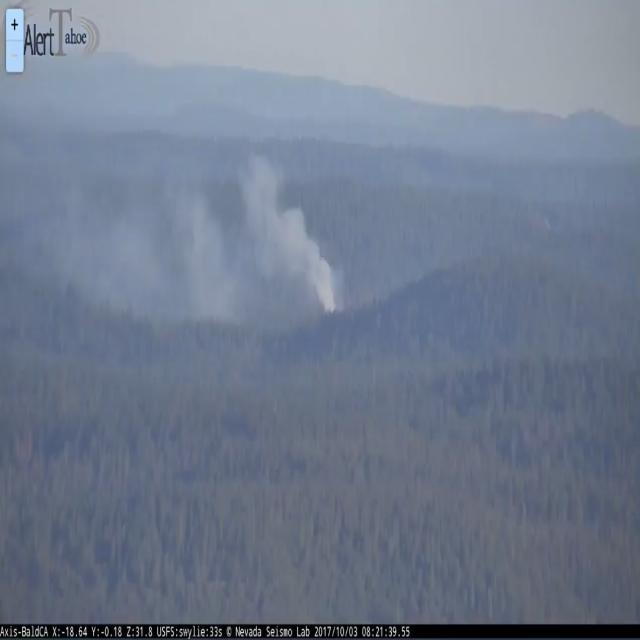smoke: (58, 185, 236, 322), (244, 145, 344, 317)
